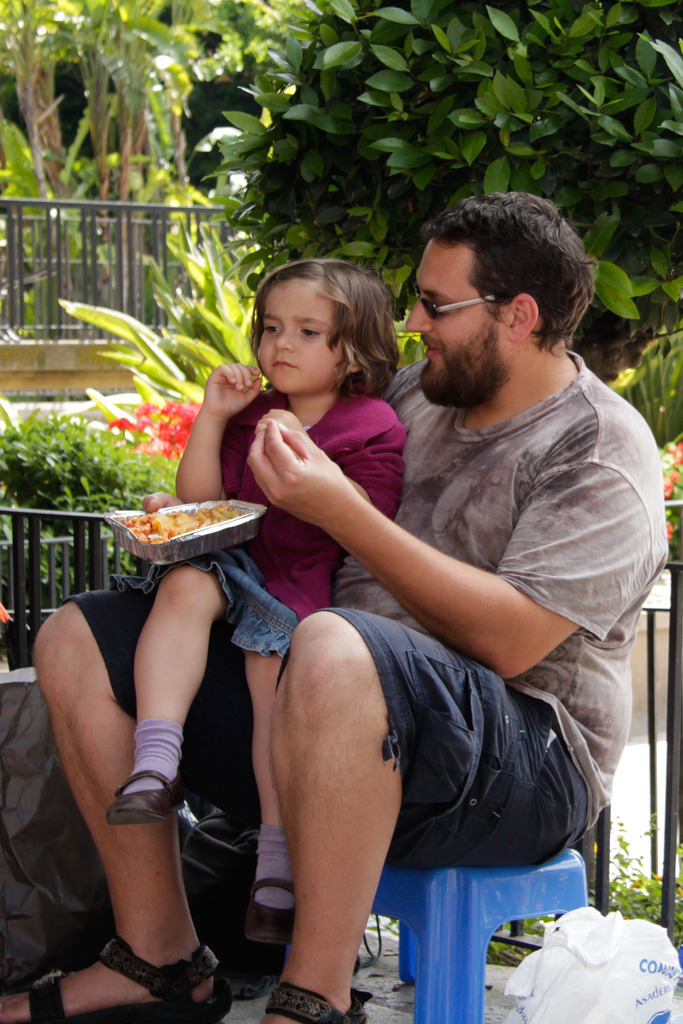Human_hand: (227, 410, 403, 558), (201, 361, 264, 417), (257, 410, 306, 433), (142, 490, 183, 513)
